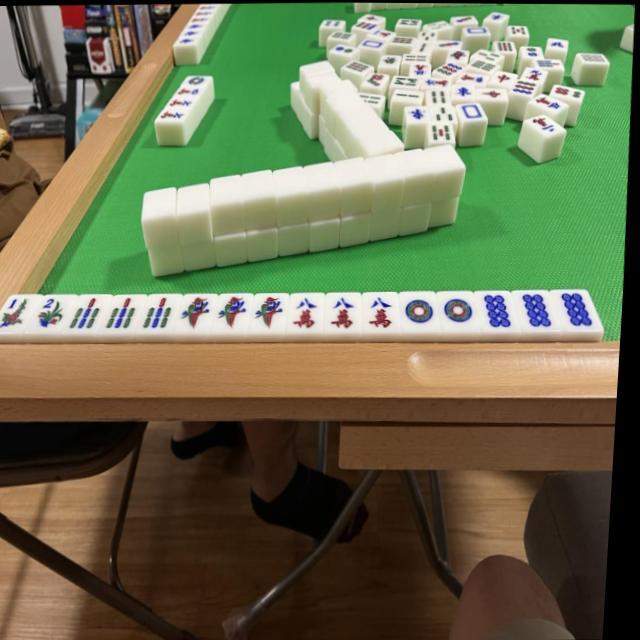bf1: (2, 293, 35, 334)
bf2: (38, 293, 71, 336)
sb1: (256, 292, 291, 337), (218, 292, 254, 334), (184, 294, 216, 334)
sb7: (108, 293, 144, 334), (144, 294, 180, 334), (72, 294, 106, 333)
sc8: (366, 292, 400, 335), (292, 294, 326, 334), (330, 292, 361, 334)
sd1: (442, 290, 480, 333), (403, 290, 440, 333)
sd8: (520, 288, 558, 331), (481, 289, 518, 332), (562, 288, 600, 329)
